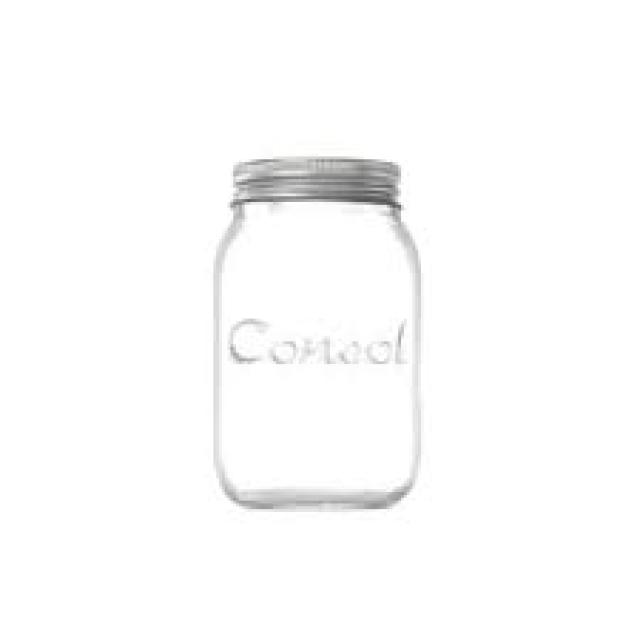glass: (213, 199, 418, 504)
metal: (228, 154, 398, 194)
